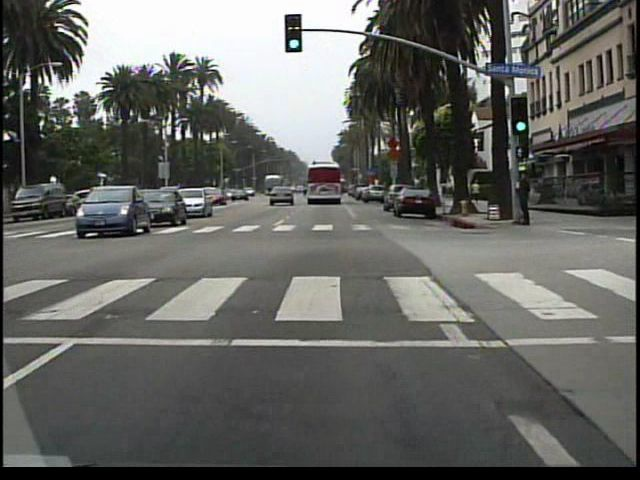person: (514, 168, 534, 227)
